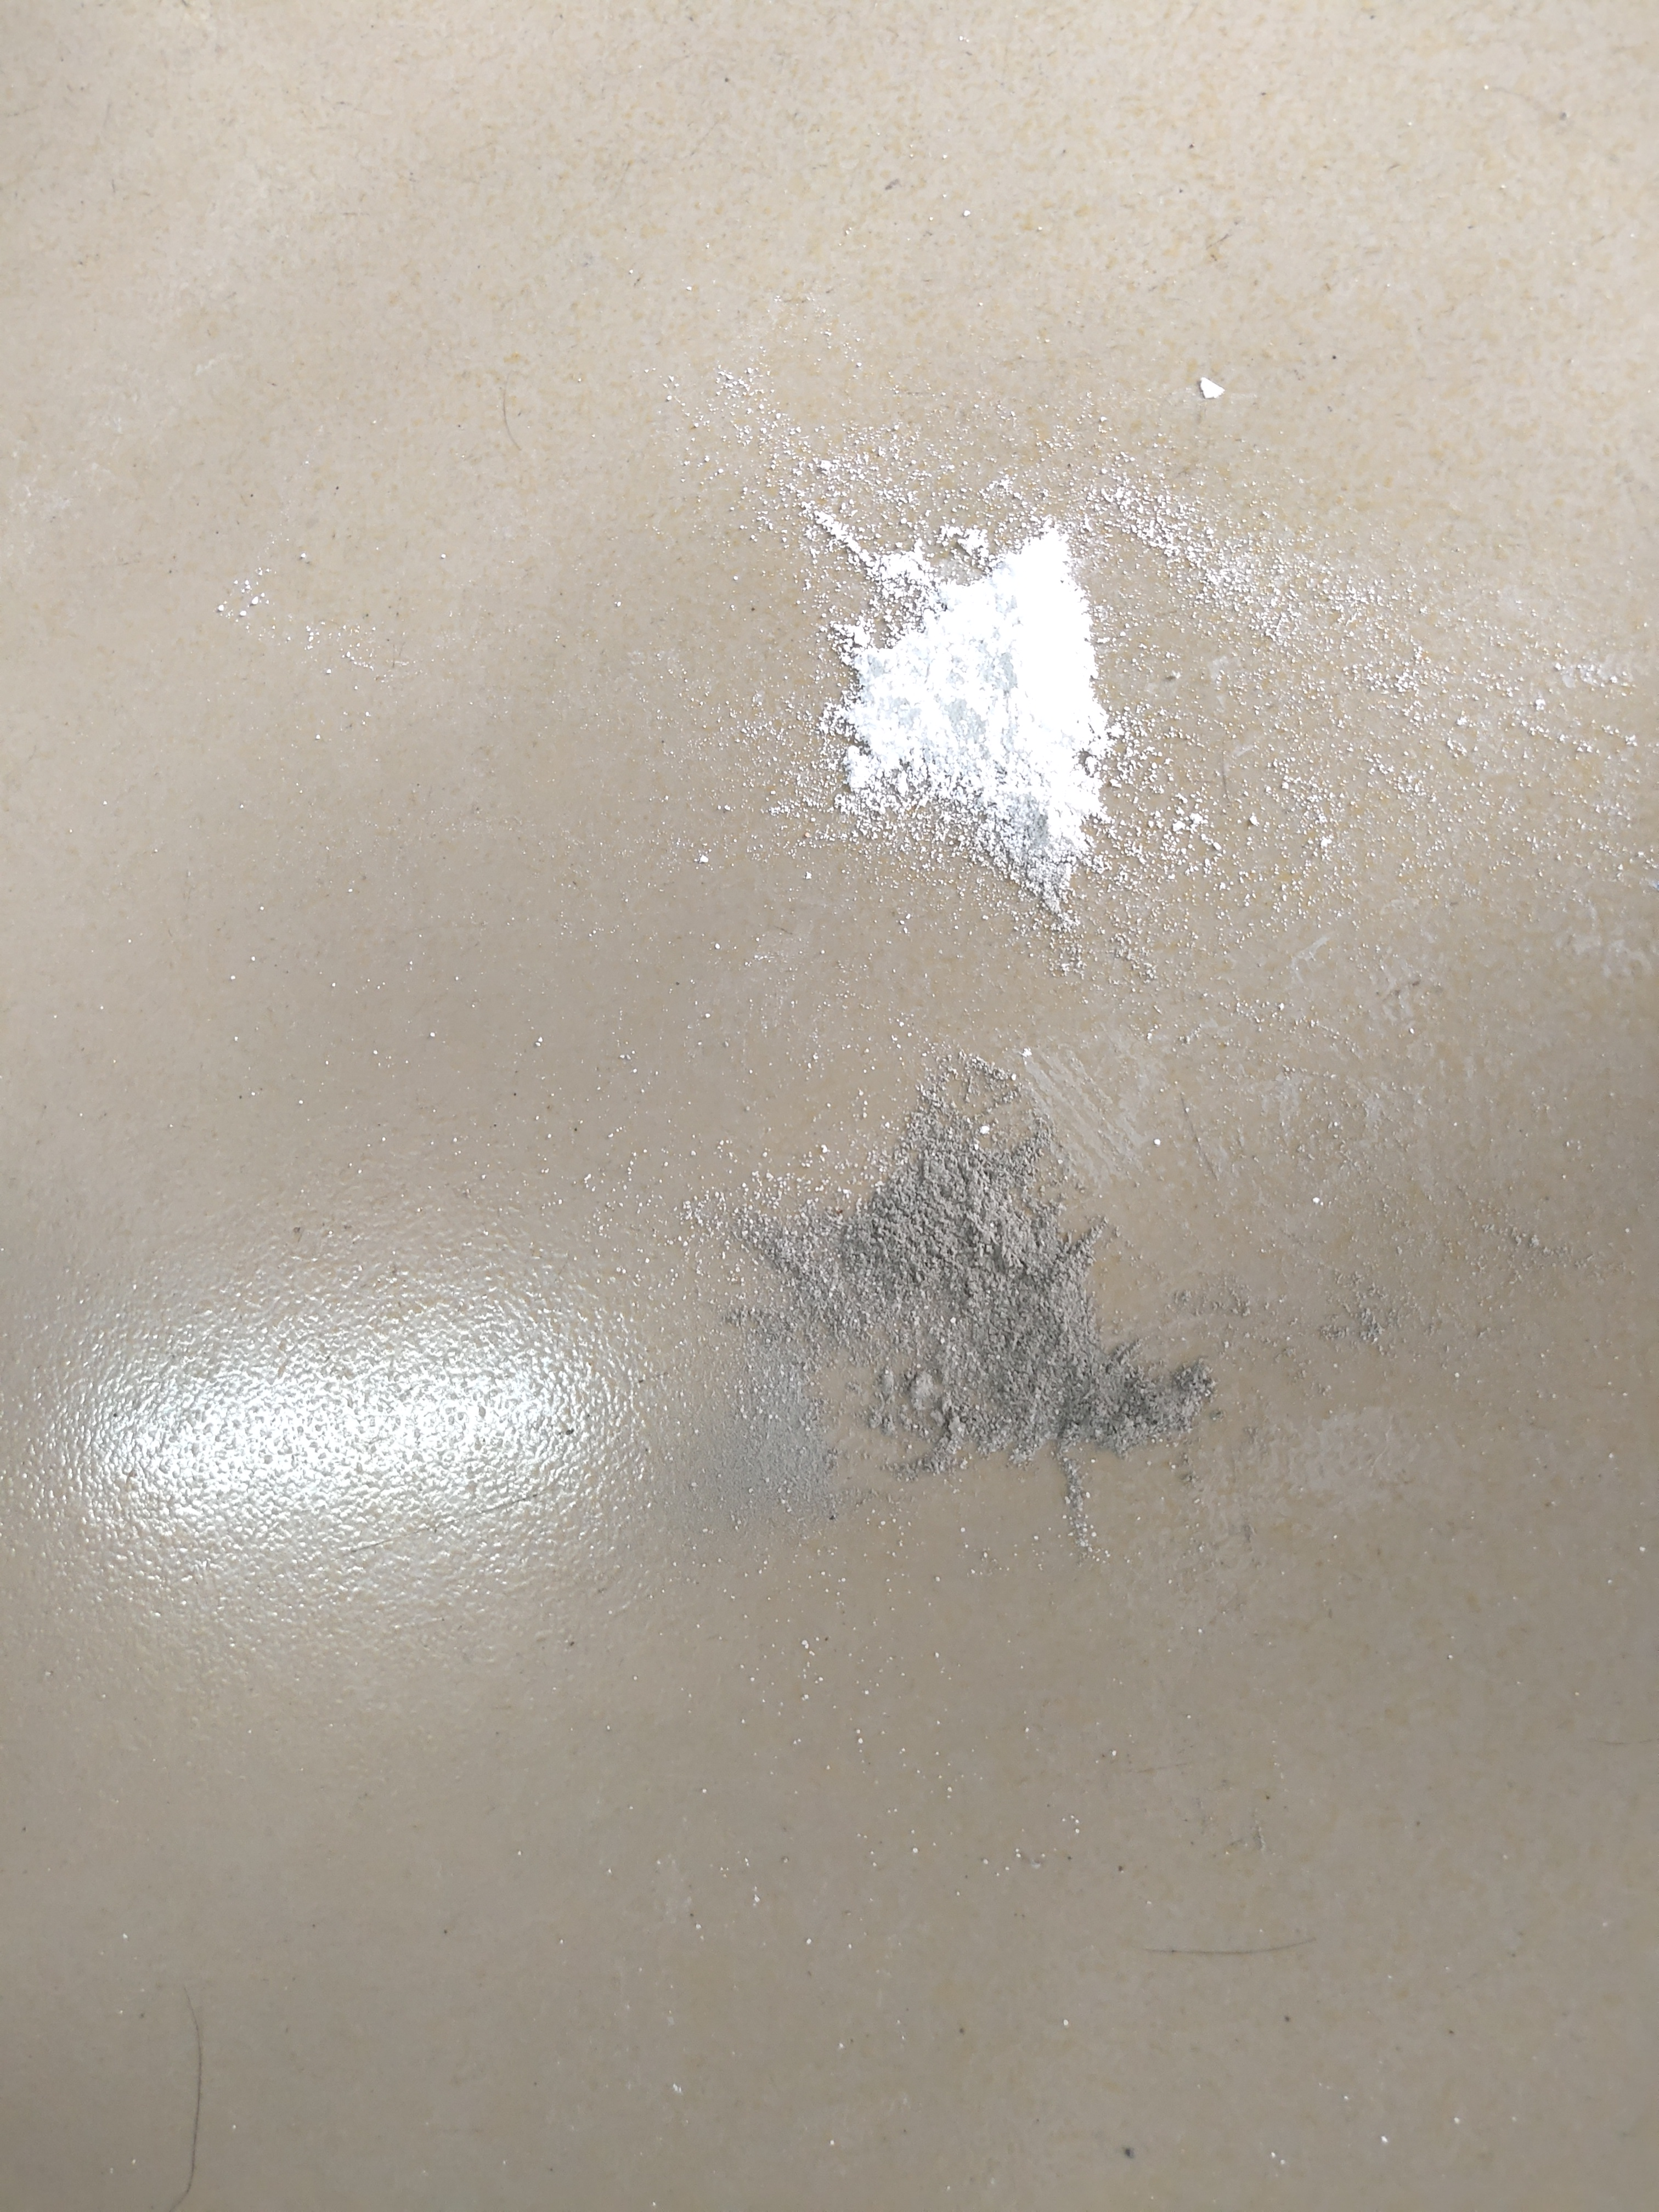ash pile: (708, 1050, 1222, 1566), (777, 479, 1140, 918)
reflection: (54, 1296, 638, 1581)
